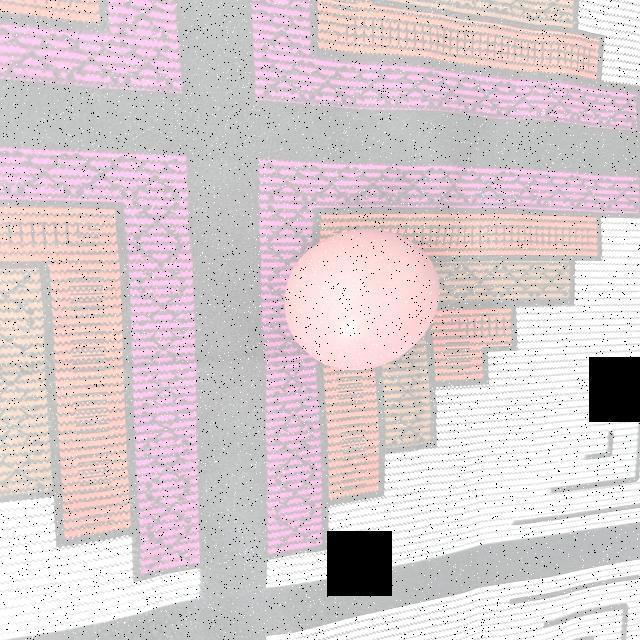egg: (281, 226, 451, 375)
